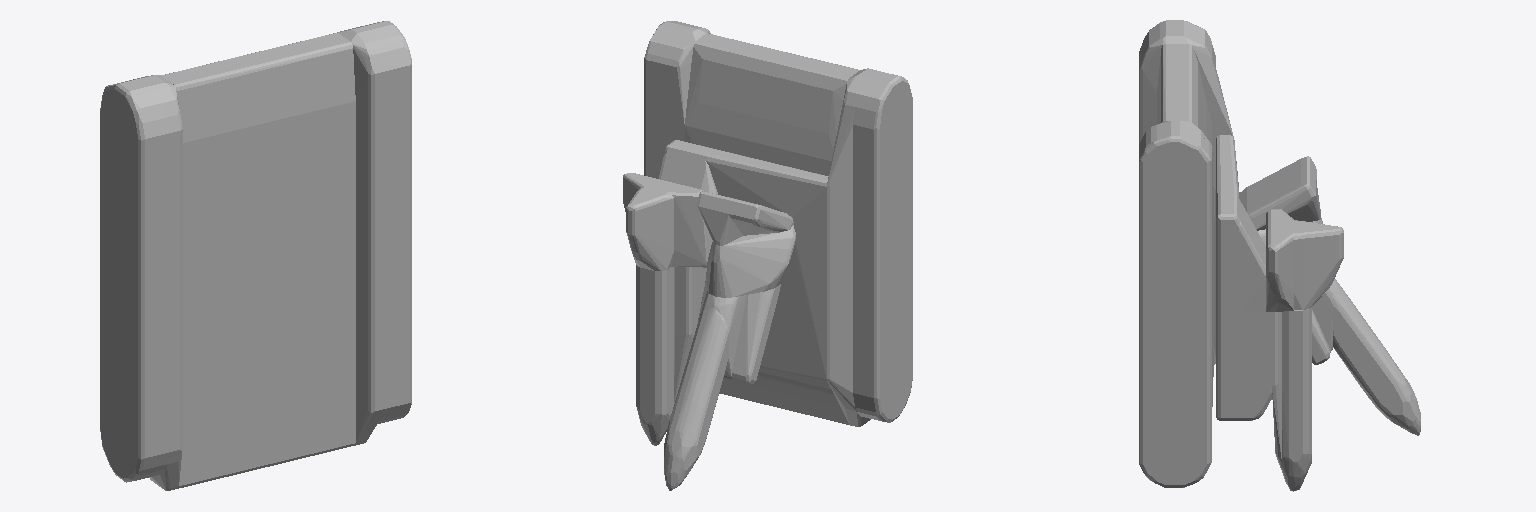
The robot description file, URDF, robot "root":
<robot name="root">
  <link name="link_coacd_convex_piece_0">
    <inertial>
      <origin xyz="0 0 0" rpy="0 0 0"/>
      <inertia ixx="5.12E-04" ixy="-5.70E-04" ixz="-1.36E-04" iyy="4.83E-05" iyz="-1.30E-04" izz="1.40E-03"/>
    </inertial>
    <visual>
      <origin xyz="0 0 0" rpy="0 0 0"/>
      <geometry>
        <mesh filename="coacd_convex_piece_0.obj" scale="1.0000E+00 1.0000E+00 1.0000E+00"/>
      </geometry>
      <material name="">
        <color rgba="7.50E-01 7.50E-01 7.50E-01 1"/>
      </material>
    </visual>
    <collision>
      <origin xyz="0 0 0" rpy="0 0 0"/>
      <geometry>
        <mesh filename="coacd_convex_piece_0.obj" scale="1.0000E+00 1.0000E+00 1.0000E+00"/>
      </geometry>
    </collision>
  </link>
  <link name="link_coacd_convex_piece_1">
    <inertial>
      <origin xyz="0 0 0" rpy="0 0 0"/>
      <inertia ixx="-8.53E-05" ixy="1.33E-04" ixz="-1.16E-04" iyy="5.85E-05" iyz="5.08E-05" izz="3.32E-04"/>
    </inertial>
    <visual>
      <origin xyz="0 0 0" rpy="0 0 0"/>
      <geometry>
        <mesh filename="coacd_convex_piece_1.obj" scale="1.0000E+00 1.0000E+00 1.0000E+00"/>
      </geometry>
      <material name="">
        <color rgba="7.50E-01 7.50E-01 7.50E-01 1"/>
      </material>
    </visual>
    <collision>
      <origin xyz="0 0 0" rpy="0 0 0"/>
      <geometry>
        <mesh filename="coacd_convex_piece_1.obj" scale="1.0000E+00 1.0000E+00 1.0000E+00"/>
      </geometry>
    </collision>
  </link>
  <joint name="link_coacd_convex_piece_1_joint" type="fixed">
    <origin xyz="0 0 0" rpy="0 0 0"/>
    <parent link="link_coacd_convex_piece_0"/>
    <child link="link_coacd_convex_piece_1"/>
  </joint>
  <link name="link_coacd_convex_piece_2">
    <inertial>
      <origin xyz="0 0 0" rpy="0 0 0"/>
      <inertia ixx="1.16E-03" ixy="1.03E-04" ixz="5.03E-05" iyy="2.29E-04" iyz="-7.68E-04" izz="9.66E-04"/>
    </inertial>
    <visual>
      <origin xyz="0 0 0" rpy="0 0 0"/>
      <geometry>
        <mesh filename="coacd_convex_piece_2.obj" scale="1.0000E+00 1.0000E+00 1.0000E+00"/>
      </geometry>
      <material name="">
        <color rgba="7.50E-01 7.50E-01 7.50E-01 1"/>
      </material>
    </visual>
    <collision>
      <origin xyz="0 0 0" rpy="0 0 0"/>
      <geometry>
        <mesh filename="coacd_convex_piece_2.obj" scale="1.0000E+00 1.0000E+00 1.0000E+00"/>
      </geometry>
    </collision>
  </link>
  <joint name="link_coacd_convex_piece_2_joint" type="fixed">
    <origin xyz="0 0 0" rpy="0 0 0"/>
    <parent link="link_coacd_convex_piece_1"/>
    <child link="link_coacd_convex_piece_2"/>
  </joint>
  <link name="link_coacd_convex_piece_3">
    <inertial>
      <origin xyz="0 0 0" rpy="0 0 0"/>
      <inertia ixx="-4.87E-04" ixy="-3.90E-05" ixz="-6.17E-05" iyy="-4.99E-04" iyz="-3.06E-05" izz="1.51E-04"/>
    </inertial>
    <visual>
      <origin xyz="0 0 0" rpy="0 0 0"/>
      <geometry>
        <mesh filename="coacd_convex_piece_3.obj" scale="1.0000E+00 1.0000E+00 1.0000E+00"/>
      </geometry>
      <material name="">
        <color rgba="7.50E-01 7.50E-01 7.50E-01 1"/>
      </material>
    </visual>
    <collision>
      <origin xyz="0 0 0" rpy="0 0 0"/>
      <geometry>
        <mesh filename="coacd_convex_piece_3.obj" scale="1.0000E+00 1.0000E+00 1.0000E+00"/>
      </geometry>
    </collision>
  </link>
  <joint name="link_coacd_convex_piece_3_joint" type="fixed">
    <origin xyz="0 0 0" rpy="0 0 0"/>
    <parent link="link_coacd_convex_piece_2"/>
    <child link="link_coacd_convex_piece_3"/>
  </joint>
  <link name="link_coacd_convex_piece_4">
    <inertial>
      <origin xyz="0 0 0" rpy="0 0 0"/>
      <inertia ixx="6.25E-03" ixy="6.92E-04" ixz="4.50E-03" iyy="7.60E-03" iyz="-6.28E-04" izz="9.81E-03"/>
    </inertial>
    <visual>
      <origin xyz="0 0 0" rpy="0 0 0"/>
      <geometry>
        <mesh filename="coacd_convex_piece_4.obj" scale="1.0000E+00 1.0000E+00 1.0000E+00"/>
      </geometry>
      <material name="">
        <color rgba="7.50E-01 7.50E-01 7.50E-01 1"/>
      </material>
    </visual>
    <collision>
      <origin xyz="0 0 0" rpy="0 0 0"/>
      <geometry>
        <mesh filename="coacd_convex_piece_4.obj" scale="1.0000E+00 1.0000E+00 1.0000E+00"/>
      </geometry>
    </collision>
  </link>
  <joint name="link_coacd_convex_piece_4_joint" type="fixed">
    <origin xyz="0 0 0" rpy="0 0 0"/>
    <parent link="link_coacd_convex_piece_3"/>
    <child link="link_coacd_convex_piece_4"/>
  </joint>
  <link name="link_coacd_convex_piece_5">
    <inertial>
      <origin xyz="0 0 0" rpy="0 0 0"/>
      <inertia ixx="5.36E-04" ixy="-3.08E-05" ixz="-6.57E-05" iyy="5.27E-06" iyz="1.34E-04" izz="2.91E-03"/>
    </inertial>
    <visual>
      <origin xyz="0 0 0" rpy="0 0 0"/>
      <geometry>
        <mesh filename="coacd_convex_piece_5.obj" scale="1.0000E+00 1.0000E+00 1.0000E+00"/>
      </geometry>
      <material name="">
        <color rgba="7.50E-01 7.50E-01 7.50E-01 1"/>
      </material>
    </visual>
    <collision>
      <origin xyz="0 0 0" rpy="0 0 0"/>
      <geometry>
        <mesh filename="coacd_convex_piece_5.obj" scale="1.0000E+00 1.0000E+00 1.0000E+00"/>
      </geometry>
    </collision>
  </link>
  <joint name="link_coacd_convex_piece_5_joint" type="fixed">
    <origin xyz="0 0 0" rpy="0 0 0"/>
    <parent link="link_coacd_convex_piece_4"/>
    <child link="link_coacd_convex_piece_5"/>
  </joint>
  <link name="link_coacd_convex_piece_6">
    <inertial>
      <origin xyz="0 0 0" rpy="0 0 0"/>
      <inertia ixx="2.33E-02" ixy="1.63E-05" ixz="-7.50E-04" iyy="9.80E-03" iyz="-9.02E-04" izz="2.17E-02"/>
    </inertial>
    <visual>
      <origin xyz="0 0 0" rpy="0 0 0"/>
      <geometry>
        <mesh filename="coacd_convex_piece_6.obj" scale="1.0000E+00 1.0000E+00 1.0000E+00"/>
      </geometry>
      <material name="">
        <color rgba="7.50E-01 7.50E-01 7.50E-01 1"/>
      </material>
    </visual>
    <collision>
      <origin xyz="0 0 0" rpy="0 0 0"/>
      <geometry>
        <mesh filename="coacd_convex_piece_6.obj" scale="1.0000E+00 1.0000E+00 1.0000E+00"/>
      </geometry>
    </collision>
  </link>
  <joint name="link_coacd_convex_piece_6_joint" type="fixed">
    <origin xyz="0 0 0" rpy="0 0 0"/>
    <parent link="link_coacd_convex_piece_5"/>
    <child link="link_coacd_convex_piece_6"/>
  </joint>
  <link name="link_coacd_convex_piece_7">
    <inertial>
      <origin xyz="0 0 0" rpy="0 0 0"/>
      <inertia ixx="3.27E-03" ixy="2.08E-04" ixz="1.84E-03" iyy="2.87E-03" iyz="-2.36E-04" izz="4.13E-03"/>
    </inertial>
    <visual>
      <origin xyz="0 0 0" rpy="0 0 0"/>
      <geometry>
        <mesh filename="coacd_convex_piece_7.obj" scale="1.0000E+00 1.0000E+00 1.0000E+00"/>
      </geometry>
      <material name="">
        <color rgba="7.50E-01 7.50E-01 7.50E-01 1"/>
      </material>
    </visual>
    <collision>
      <origin xyz="0 0 0" rpy="0 0 0"/>
      <geometry>
        <mesh filename="coacd_convex_piece_7.obj" scale="1.0000E+00 1.0000E+00 1.0000E+00"/>
      </geometry>
    </collision>
  </link>
  <joint name="link_coacd_convex_piece_7_joint" type="fixed">
    <origin xyz="0 0 0" rpy="0 0 0"/>
    <parent link="link_coacd_convex_piece_6"/>
    <child link="link_coacd_convex_piece_7"/>
  </joint>
  <link name="link_coacd_convex_piece_8">
    <inertial>
      <origin xyz="0 0 0" rpy="0 0 0"/>
      <inertia ixx="-3.68E-05" ixy="-8.18E-06" ixz="-1.06E-05" iyy="-7.77E-05" iyz="-1.93E-05" izz="4.45E-05"/>
    </inertial>
    <visual>
      <origin xyz="0 0 0" rpy="0 0 0"/>
      <geometry>
        <mesh filename="coacd_convex_piece_8.obj" scale="1.0000E+00 1.0000E+00 1.0000E+00"/>
      </geometry>
      <material name="">
        <color rgba="7.50E-01 7.50E-01 7.50E-01 1"/>
      </material>
    </visual>
    <collision>
      <origin xyz="0 0 0" rpy="0 0 0"/>
      <geometry>
        <mesh filename="coacd_convex_piece_8.obj" scale="1.0000E+00 1.0000E+00 1.0000E+00"/>
      </geometry>
    </collision>
  </link>
  <joint name="link_coacd_convex_piece_8_joint" type="fixed">
    <origin xyz="0 0 0" rpy="0 0 0"/>
    <parent link="link_coacd_convex_piece_7"/>
    <child link="link_coacd_convex_piece_8"/>
  </joint>
  <link name="link_coacd_convex_piece_9">
    <inertial>
      <origin xyz="0 0 0" rpy="0 0 0"/>
      <inertia ixx="4.11E-03" ixy="-2.91E-04" ixz="-2.69E-03" iyy="3.78E-03" iyz="-3.21E-04" izz="5.65E-03"/>
    </inertial>
    <visual>
      <origin xyz="0 0 0" rpy="0 0 0"/>
      <geometry>
        <mesh filename="coacd_convex_piece_9.obj" scale="1.0000E+00 1.0000E+00 1.0000E+00"/>
      </geometry>
      <material name="">
        <color rgba="7.50E-01 7.50E-01 7.50E-01 1"/>
      </material>
    </visual>
    <collision>
      <origin xyz="0 0 0" rpy="0 0 0"/>
      <geometry>
        <mesh filename="coacd_convex_piece_9.obj" scale="1.0000E+00 1.0000E+00 1.0000E+00"/>
      </geometry>
    </collision>
  </link>
  <joint name="link_coacd_convex_piece_9_joint" type="fixed">
    <origin xyz="0 0 0" rpy="0 0 0"/>
    <parent link="link_coacd_convex_piece_8"/>
    <child link="link_coacd_convex_piece_9"/>
  </joint>
  <link name="link_coacd_convex_piece_10">
    <inertial>
      <origin xyz="0 0 0" rpy="0 0 0"/>
      <inertia ixx="5.71E-03" ixy="-6.93E-04" ixz="-4.54E-03" iyy="7.18E-03" iyz="-6.12E-04" izz="9.36E-03"/>
    </inertial>
    <visual>
      <origin xyz="0 0 0" rpy="0 0 0"/>
      <geometry>
        <mesh filename="coacd_convex_piece_10.obj" scale="1.0000E+00 1.0000E+00 1.0000E+00"/>
      </geometry>
      <material name="">
        <color rgba="7.50E-01 7.50E-01 7.50E-01 1"/>
      </material>
    </visual>
    <collision>
      <origin xyz="0 0 0" rpy="0 0 0"/>
      <geometry>
        <mesh filename="coacd_convex_piece_10.obj" scale="1.0000E+00 1.0000E+00 1.0000E+00"/>
      </geometry>
    </collision>
  </link>
  <joint name="link_coacd_convex_piece_10_joint" type="fixed">
    <origin xyz="0 0 0" rpy="0 0 0"/>
    <parent link="link_coacd_convex_piece_9"/>
    <child link="link_coacd_convex_piece_10"/>
  </joint>
  <link name="link_coacd_convex_piece_11">
    <inertial>
      <origin xyz="0 0 0" rpy="0 0 0"/>
      <inertia ixx="4.26E-05" ixy="-1.41E-04" ixz="-7.05E-06" iyy="-3.98E-06" iyz="1.63E-06" izz="3.35E-04"/>
    </inertial>
    <visual>
      <origin xyz="0 0 0" rpy="0 0 0"/>
      <geometry>
        <mesh filename="coacd_convex_piece_11.obj" scale="1.0000E+00 1.0000E+00 1.0000E+00"/>
      </geometry>
      <material name="">
        <color rgba="7.50E-01 7.50E-01 7.50E-01 1"/>
      </material>
    </visual>
    <collision>
      <origin xyz="0 0 0" rpy="0 0 0"/>
      <geometry>
        <mesh filename="coacd_convex_piece_11.obj" scale="1.0000E+00 1.0000E+00 1.0000E+00"/>
      </geometry>
    </collision>
  </link>
  <joint name="link_coacd_convex_piece_11_joint" type="fixed">
    <origin xyz="0 0 0" rpy="0 0 0"/>
    <parent link="link_coacd_convex_piece_10"/>
    <child link="link_coacd_convex_piece_11"/>
  </joint>
  <link name="link_coacd_convex_piece_12">
    <inertial>
      <origin xyz="0 0 0" rpy="0 0 0"/>
      <inertia ixx="-3.24E-05" ixy="-3.62E-04" ixz="1.08E-04" iyy="3.76E-05" iyz="1.13E-04" izz="8.54E-04"/>
    </inertial>
    <visual>
      <origin xyz="0 0 0" rpy="0 0 0"/>
      <geometry>
        <mesh filename="coacd_convex_piece_12.obj" scale="1.0000E+00 1.0000E+00 1.0000E+00"/>
      </geometry>
      <material name="">
        <color rgba="7.50E-01 7.50E-01 7.50E-01 1"/>
      </material>
    </visual>
    <collision>
      <origin xyz="0 0 0" rpy="0 0 0"/>
      <geometry>
        <mesh filename="coacd_convex_piece_12.obj" scale="1.0000E+00 1.0000E+00 1.0000E+00"/>
      </geometry>
    </collision>
  </link>
  <joint name="link_coacd_convex_piece_12_joint" type="fixed">
    <origin xyz="0 0 0" rpy="0 0 0"/>
    <parent link="link_coacd_convex_piece_11"/>
    <child link="link_coacd_convex_piece_12"/>
  </joint>
  <link name="link_coacd_convex_piece_13">
    <inertial>
      <origin xyz="0 0 0" rpy="0 0 0"/>
      <inertia ixx="-2.59E-04" ixy="2.32E-04" ixz="-3.13E-05" iyy="1.85E-05" iyz="-1.35E-05" izz="6.13E-04"/>
    </inertial>
    <visual>
      <origin xyz="0 0 0" rpy="0 0 0"/>
      <geometry>
        <mesh filename="coacd_convex_piece_13.obj" scale="1.0000E+00 1.0000E+00 1.0000E+00"/>
      </geometry>
      <material name="">
        <color rgba="7.50E-01 7.50E-01 7.50E-01 1"/>
      </material>
    </visual>
    <collision>
      <origin xyz="0 0 0" rpy="0 0 0"/>
      <geometry>
        <mesh filename="coacd_convex_piece_13.obj" scale="1.0000E+00 1.0000E+00 1.0000E+00"/>
      </geometry>
    </collision>
  </link>
  <joint name="link_coacd_convex_piece_13_joint" type="fixed">
    <origin xyz="0 0 0" rpy="0 0 0"/>
    <parent link="link_coacd_convex_piece_12"/>
    <child link="link_coacd_convex_piece_13"/>
  </joint>
  <link name="link_coacd_convex_piece_14">
    <inertial>
      <origin xyz="0 0 0" rpy="0 0 0"/>
      <inertia ixx="-1.72E-04" ixy="1.32E-04" ixz="7.58E-05" iyy="-1.66E-05" iyz="-6.73E-05" izz="3.57E-04"/>
    </inertial>
    <visual>
      <origin xyz="0 0 0" rpy="0 0 0"/>
      <geometry>
        <mesh filename="coacd_convex_piece_14.obj" scale="1.0000E+00 1.0000E+00 1.0000E+00"/>
      </geometry>
      <material name="">
        <color rgba="7.50E-01 7.50E-01 7.50E-01 1"/>
      </material>
    </visual>
    <collision>
      <origin xyz="0 0 0" rpy="0 0 0"/>
      <geometry>
        <mesh filename="coacd_convex_piece_14.obj" scale="1.0000E+00 1.0000E+00 1.0000E+00"/>
      </geometry>
    </collision>
  </link>
  <joint name="link_coacd_convex_piece_14_joint" type="fixed">
    <origin xyz="0 0 0" rpy="0 0 0"/>
    <parent link="link_coacd_convex_piece_13"/>
    <child link="link_coacd_convex_piece_14"/>
  </joint>
  <link name="link_coacd_convex_piece_15">
    <inertial>
      <origin xyz="0 0 0" rpy="0 0 0"/>
      <inertia ixx="-4.87E-05" ixy="4.69E-05" ixz="6.49E-06" iyy="-7.32E-05" iyz="-2.97E-05" izz="1.08E-04"/>
    </inertial>
    <visual>
      <origin xyz="0 0 0" rpy="0 0 0"/>
      <geometry>
        <mesh filename="coacd_convex_piece_15.obj" scale="1.0000E+00 1.0000E+00 1.0000E+00"/>
      </geometry>
      <material name="">
        <color rgba="7.50E-01 7.50E-01 7.50E-01 1"/>
      </material>
    </visual>
    <collision>
      <origin xyz="0 0 0" rpy="0 0 0"/>
      <geometry>
        <mesh filename="coacd_convex_piece_15.obj" scale="1.0000E+00 1.0000E+00 1.0000E+00"/>
      </geometry>
    </collision>
  </link>
  <joint name="link_coacd_convex_piece_15_joint" type="fixed">
    <origin xyz="0 0 0" rpy="0 0 0"/>
    <parent link="link_coacd_convex_piece_14"/>
    <child link="link_coacd_convex_piece_15"/>
  </joint>
  <link name="link_coacd_convex_piece_16">
    <inertial>
      <origin xyz="0 0 0" rpy="0 0 0"/>
      <inertia ixx="-1.44E-05" ixy="-7.95E-06" ixz="-1.73E-05" iyy="-2.00E-04" iyz="1.23E-05" izz="1.93E-04"/>
    </inertial>
    <visual>
      <origin xyz="0 0 0" rpy="0 0 0"/>
      <geometry>
        <mesh filename="coacd_convex_piece_16.obj" scale="1.0000E+00 1.0000E+00 1.0000E+00"/>
      </geometry>
      <material name="">
        <color rgba="7.50E-01 7.50E-01 7.50E-01 1"/>
      </material>
    </visual>
    <collision>
      <origin xyz="0 0 0" rpy="0 0 0"/>
      <geometry>
        <mesh filename="coacd_convex_piece_16.obj" scale="1.0000E+00 1.0000E+00 1.0000E+00"/>
      </geometry>
    </collision>
  </link>
  <joint name="link_coacd_convex_piece_16_joint" type="fixed">
    <origin xyz="0 0 0" rpy="0 0 0"/>
    <parent link="link_coacd_convex_piece_15"/>
    <child link="link_coacd_convex_piece_16"/>
  </joint>
  <link name="link_coacd_convex_piece_17">
    <inertial>
      <origin xyz="0 0 0" rpy="0 0 0"/>
      <inertia ixx="-4.91E-06" ixy="-6.51E-05" ixz="-1.19E-05" iyy="-9.41E-05" iyz="1.18E-06" izz="1.61E-04"/>
    </inertial>
    <visual>
      <origin xyz="0 0 0" rpy="0 0 0"/>
      <geometry>
        <mesh filename="coacd_convex_piece_17.obj" scale="1.0000E+00 1.0000E+00 1.0000E+00"/>
      </geometry>
      <material name="">
        <color rgba="7.50E-01 7.50E-01 7.50E-01 1"/>
      </material>
    </visual>
    <collision>
      <origin xyz="0 0 0" rpy="0 0 0"/>
      <geometry>
        <mesh filename="coacd_convex_piece_17.obj" scale="1.0000E+00 1.0000E+00 1.0000E+00"/>
      </geometry>
    </collision>
  </link>
  <joint name="link_coacd_convex_piece_17_joint" type="fixed">
    <origin xyz="0 0 0" rpy="0 0 0"/>
    <parent link="link_coacd_convex_piece_16"/>
    <child link="link_coacd_convex_piece_17"/>
  </joint>
  <link name="link_coacd_convex_piece_18">
    <inertial>
      <origin xyz="0 0 0" rpy="0 0 0"/>
      <inertia ixx="-1.48E-04" ixy="4.13E-05" ixz="-8.19E-06" iyy="-2.96E-04" iyz="-9.69E-05" izz="1.84E-04"/>
    </inertial>
    <visual>
      <origin xyz="0 0 0" rpy="0 0 0"/>
      <geometry>
        <mesh filename="coacd_convex_piece_18.obj" scale="1.0000E+00 1.0000E+00 1.0000E+00"/>
      </geometry>
      <material name="">
        <color rgba="7.50E-01 7.50E-01 7.50E-01 1"/>
      </material>
    </visual>
    <collision>
      <origin xyz="0 0 0" rpy="0 0 0"/>
      <geometry>
        <mesh filename="coacd_convex_piece_18.obj" scale="1.0000E+00 1.0000E+00 1.0000E+00"/>
      </geometry>
    </collision>
  </link>
  <joint name="link_coacd_convex_piece_18_joint" type="fixed">
    <origin xyz="0 0 0" rpy="0 0 0"/>
    <parent link="link_coacd_convex_piece_17"/>
    <child link="link_coacd_convex_piece_18"/>
  </joint>
</robot>

--- What the picture shows (computed from the rendered views, not written in the file) ---
3 views of the same robot in one strip: view 1: azimuth 30°, elevation 25°; view 2: azimuth 150°, elevation 25°; view 3: azimuth 270°, elevation 25° (orthographic).
Model root with 19 links and 18 joints (18 fixed), rooted at link_coacd_convex_piece_0, posed all joints at 0.
Links seen in each view (by area): view 1: link_coacd_convex_piece_6, link_coacd_convex_piece_10, link_coacd_convex_piece_4, link_coacd_convex_piece_7, link_coacd_convex_piece_9; view 2: link_coacd_convex_piece_6, link_coacd_convex_piece_10, link_coacd_convex_piece_5, link_coacd_convex_piece_9, link_coacd_convex_piece_2, link_coacd_convex_piece_0, link_coacd_convex_piece_3, link_coacd_convex_piece_4, link_coacd_convex_piece_1, link_coacd_convex_piece_13, link_coacd_convex_piece_15, link_coacd_convex_piece_7 (+6 smaller); view 3: link_coacd_convex_piece_4, link_coacd_convex_piece_5, link_coacd_convex_piece_2, link_coacd_convex_piece_0, link_coacd_convex_piece_6, link_coacd_convex_piece_9, link_coacd_convex_piece_1, link_coacd_convex_piece_12, link_coacd_convex_piece_13, link_coacd_convex_piece_16, link_coacd_convex_piece_14, link_coacd_convex_piece_11 (+4 smaller).
Link boxes in pixels (box(x1,y1,x2,y2)): link_coacd_convex_piece_6: box(161, 33, 355, 488); link_coacd_convex_piece_10: box(100, 78, 168, 482); link_coacd_convex_piece_4: box(352, 21, 411, 423); link_coacd_convex_piece_7: box(337, 28, 382, 445); link_coacd_convex_piece_9: box(133, 75, 182, 490); link_coacd_convex_piece_6: box(685, 33, 859, 424); link_coacd_convex_piece_10: box(853, 71, 912, 422); link_coacd_convex_piece_5: box(664, 140, 828, 380); link_coacd_convex_piece_9: box(827, 68, 876, 426); link_coacd_convex_piece_2: box(664, 308, 728, 490); link_coacd_convex_piece_0: box(636, 265, 674, 445); link_coacd_convex_piece_3: box(706, 225, 795, 297); link_coacd_convex_piece_4: box(644, 21, 694, 178); link_coacd_convex_piece_1: box(626, 187, 673, 270); link_coacd_convex_piece_13: box(623, 173, 712, 267); link_coacd_convex_piece_15: box(732, 284, 780, 383); link_coacd_convex_piece_7: box(670, 26, 710, 142); link_coacd_convex_piece_4: box(1139, 124, 1211, 487); link_coacd_convex_piece_5: box(1215, 135, 1239, 420); link_coacd_convex_piece_2: box(1333, 279, 1420, 435); link_coacd_convex_piece_0: box(1282, 307, 1311, 491); link_coacd_convex_piece_6: box(1157, 44, 1214, 406); link_coacd_convex_piece_9: box(1139, 31, 1233, 364); link_coacd_convex_piece_1: box(1294, 220, 1343, 309); link_coacd_convex_piece_12: box(1240, 312, 1271, 420); link_coacd_convex_piece_13: box(1266, 209, 1293, 311); link_coacd_convex_piece_16: box(1242, 168, 1320, 230); link_coacd_convex_piece_14: box(1240, 201, 1265, 311); link_coacd_convex_piece_11: box(1272, 312, 1281, 469).
Size in the robot's own frame: 0.9984 by 0.9985 by 1.48 metres.
19 mesh visuals loaded from 19 distinct referenced files (19 OBJ).
